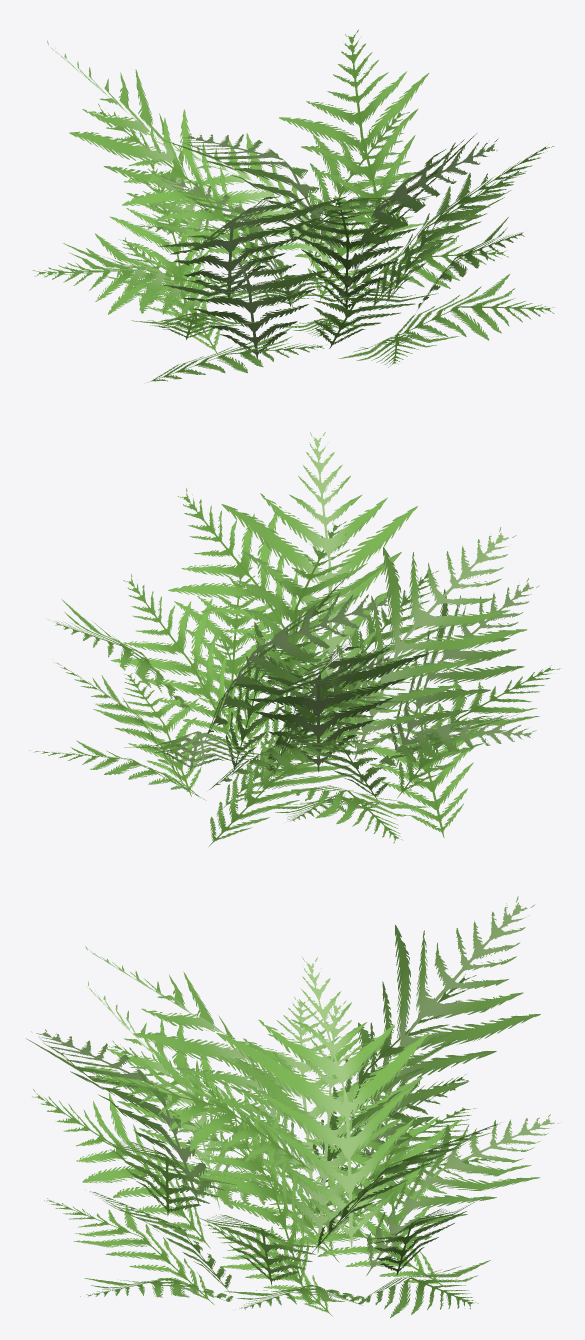
Rendered from bush_1_grand.fbx.
3 views of the same model, one above another, from view 1: azimuth 30°, elevation 25°; view 2: azimuth 150°, elevation 25°; view 3: azimuth 270°, elevation 25° (orthographic). The views are drawn at different scales.
Visible parts, largest first — view 1: feuillage_1_grand; view 2: feuillage_1_grand; view 3: feuillage_1_grand.
Part boxes in pixels (x1=…): feuillage_1_grand: x1=32, y1=29, x2=554, y2=382; feuillage_1_grand: x1=29, y1=432, x2=560, y2=846; feuillage_1_grand: x1=26, y1=896, x2=558, y2=1317.
Size of the model in its own units: 250 by 146 by 227.
